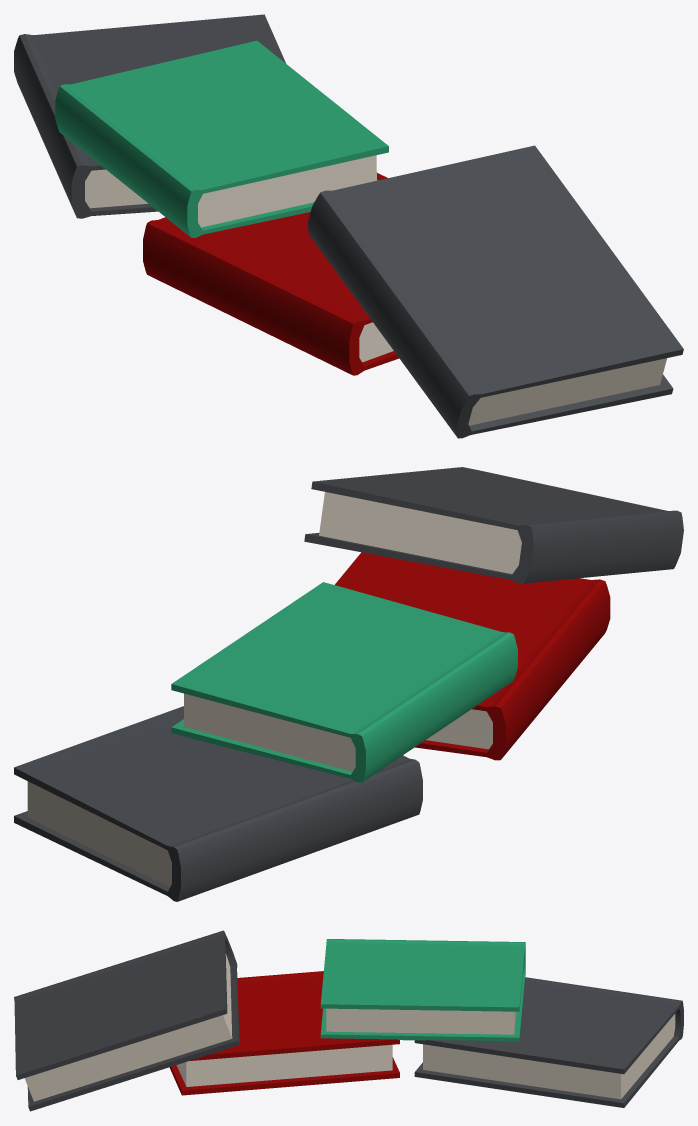
File: BookPile9.fbx
3 views of the same model, one above another, from view 1: azimuth 30°, elevation 25°; view 2: azimuth 150°, elevation 25°; view 3: azimuth 270°, elevation 25° (orthographic). The views are drawn at different scales.
Visible parts, largest first — view 1: polySurface123; view 2: polySurface123; view 3: polySurface123.
Boxes of the visible parts, x1,y1,x2,y2 form: polySurface123: (14, 14, 683, 438); polySurface123: (14, 467, 683, 901); polySurface123: (14, 930, 683, 1111).
Bounding box in the file's own units: 0.6241 × 0.3009 × 1.69.
